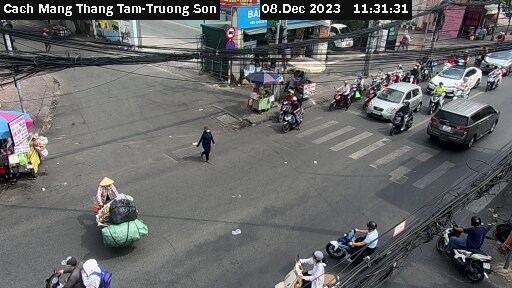car: (428, 97, 503, 145), (367, 78, 421, 125), (428, 62, 478, 98), (485, 46, 512, 76)
motorbike: (440, 218, 506, 285), (325, 217, 375, 264), (271, 255, 340, 288), (46, 259, 117, 288), (280, 107, 316, 139), (329, 86, 360, 121), (390, 107, 421, 139), (425, 84, 452, 117), (484, 64, 507, 94), (454, 79, 478, 102)
